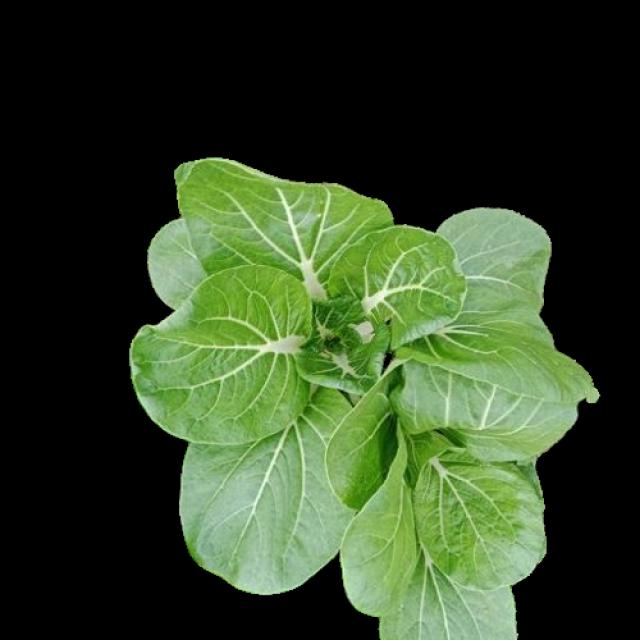healthy: (128, 153, 596, 638)
mature: (131, 156, 599, 640)
